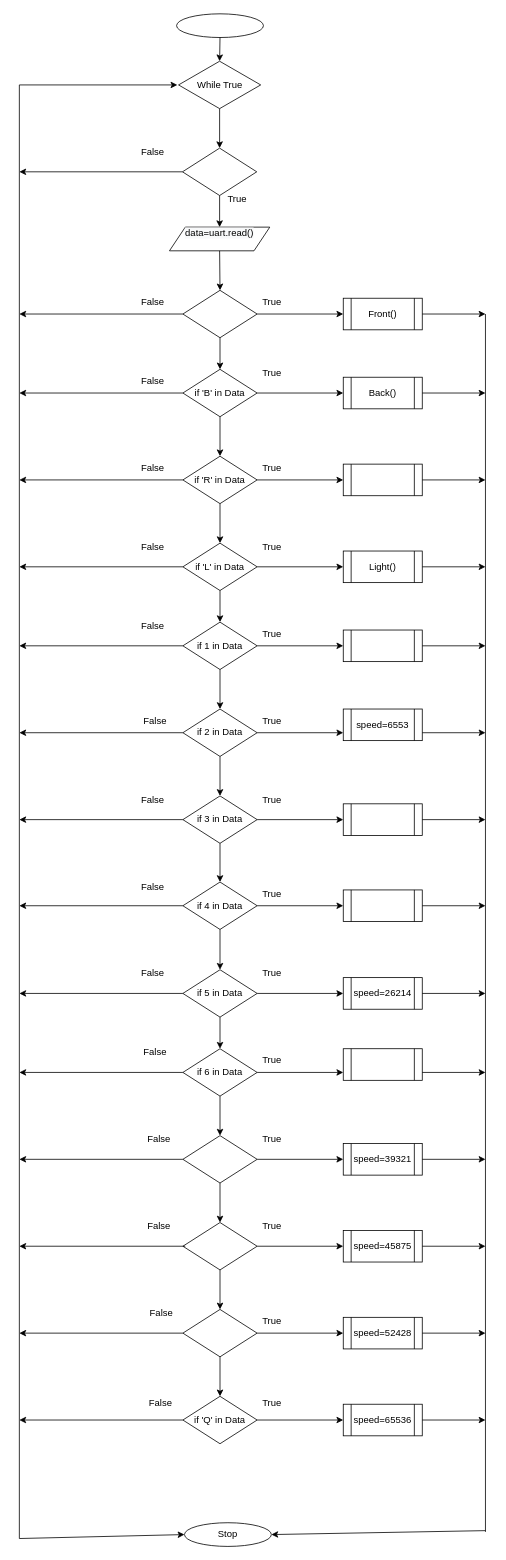
Some shapes in this 506 by 1560 pixel diagram are drawn without their labels. The centre of each missing label's shape, as x and y in pixels:
if 'F' in Data: pixel 219 314
if 7 in Data: pixel 219 1159
if 8 in Data: pixel 219 1246
if 9 in Data: pixel 219 1333
if uart.any(): pixel 219 171
Right(): pixel 382 479
speed=0: pixel 382 645
speed=13107: pixel 382 819
speed=19660: pixel 382 905
speed=32768: pixel 382 1064
Start: pixel 219 25
